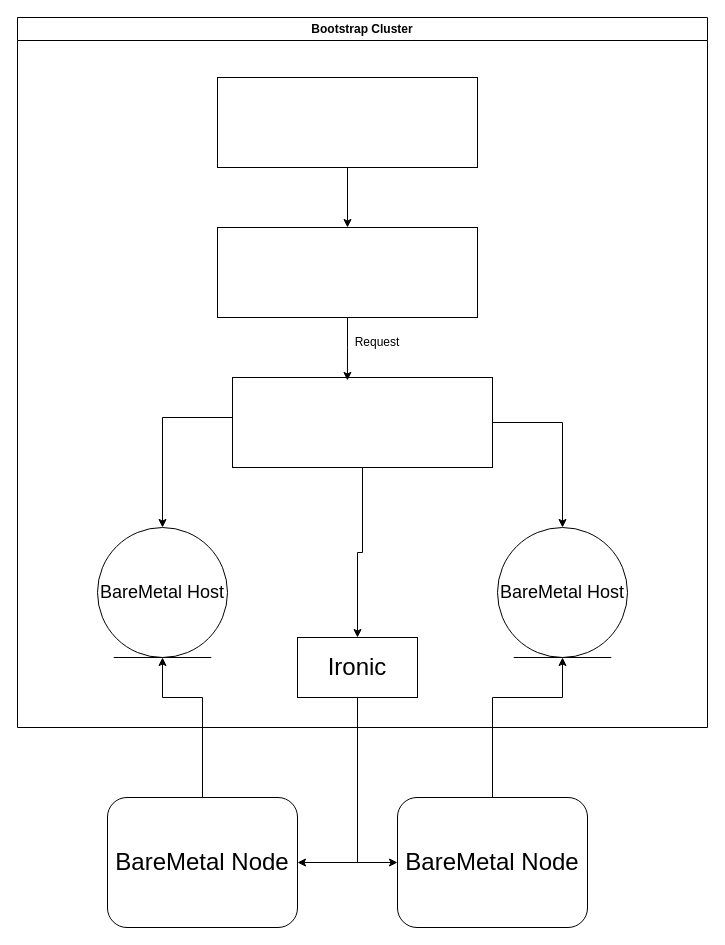
Image size: 725x945. Some labels were removed from this diagram. Here are the shapes that lost their labels. From the top down, the centre of each, then its label:
the point at 347,122: CAPI Controller
the point at 347,272: CAPM3 Controller
the point at 362,422: BareMetal Operator
